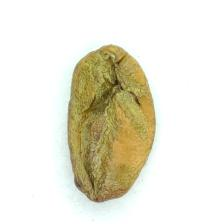NG: (74, 54, 135, 199)
